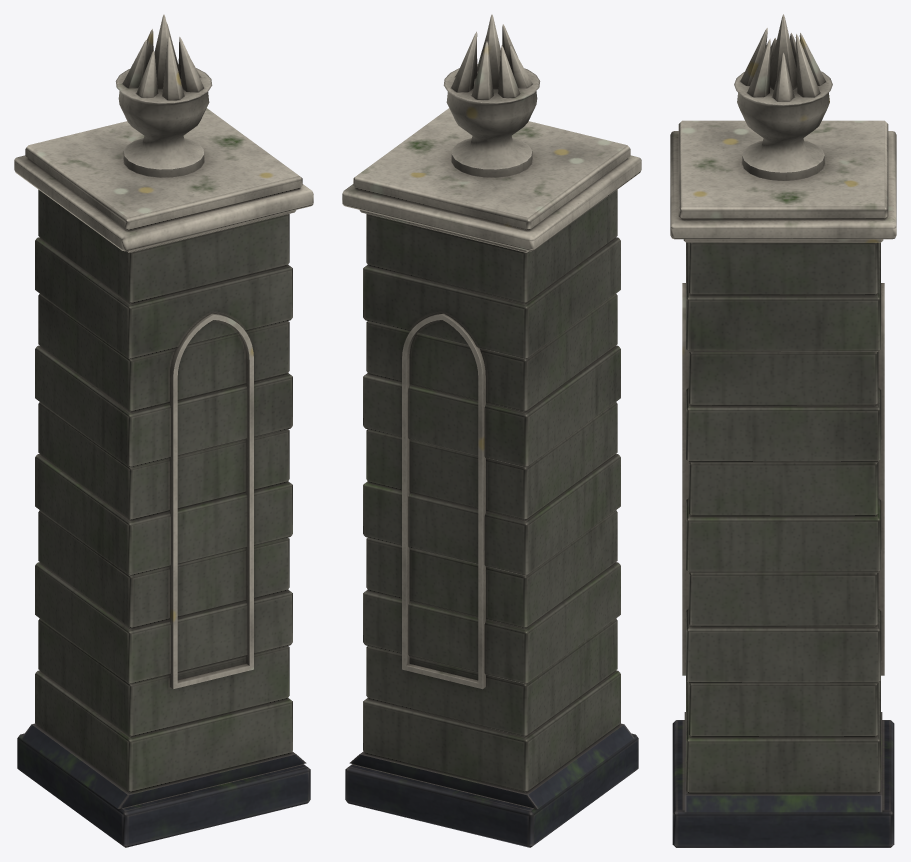
Rendered from StoneWallPier.fbx.
3 renders of one model, left to right at view 1: azimuth 30°, elevation 25°; view 2: azimuth 150°, elevation 25°; view 3: azimuth 270°, elevation 25°, orthographic.
Parts seen in each view (by area): view 1: StoneWallPier; view 2: StoneWallPier; view 3: StoneWallPier.
Boxes of the visible parts, box(x1,y1,x2,y2) form: StoneWallPier: box(14, 14, 313, 847); StoneWallPier: box(342, 14, 641, 847); StoneWallPier: box(670, 14, 896, 847).
Size of the model in its own units: 302 by 1161 by 302.
